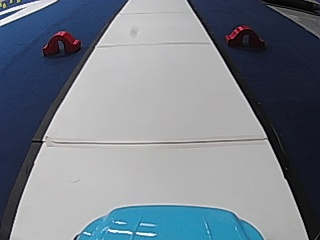bridge: (41, 27, 80, 57), (223, 22, 266, 49)
